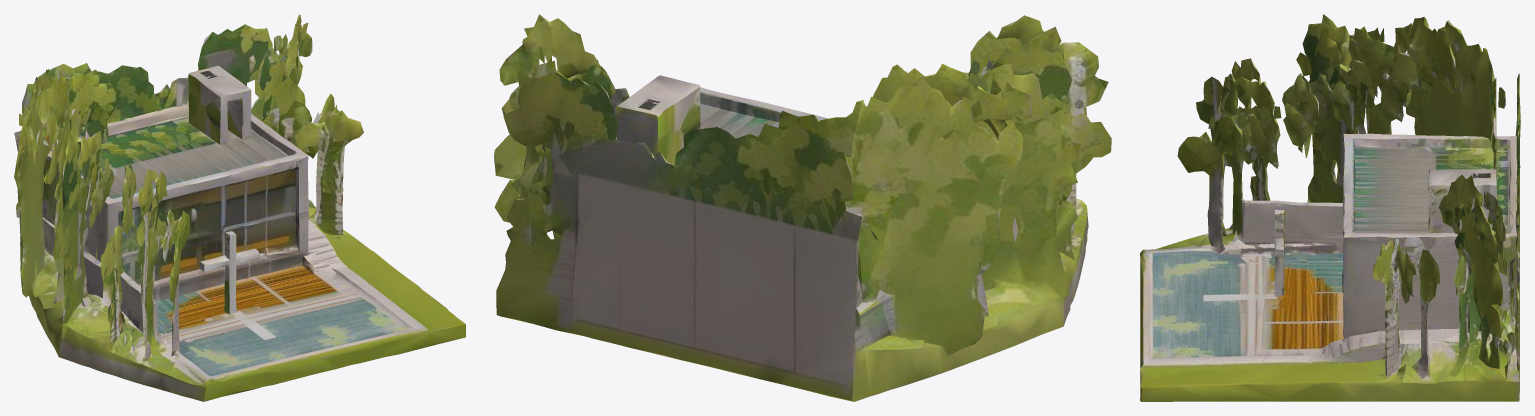
The model's file is church-on-the-water.glb.
3 views of the same model, side by side, from view 1: azimuth 30°, elevation 25°; view 2: azimuth 150°, elevation 25°; view 3: azimuth 270°, elevation 25° (orthographic). The views are drawn at different scales.
Parts seen in each view (by area): view 1: logan-textured.obj; view 2: logan-textured.obj; view 3: logan-textured.obj.
Boxes of the visible parts, bbox=[...] form: logan-textured.obj: bbox=[14, 14, 465, 401]; logan-textured.obj: bbox=[494, 14, 1111, 401]; logan-textured.obj: bbox=[1140, 14, 1520, 401].
Size of the model in its own units: 1 by 0.6257 by 0.9061.
Materials: 1 (1 with a texture image).
